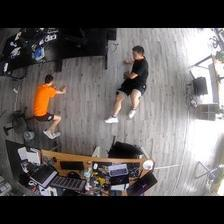fall: (103, 46, 149, 122), (33, 75, 67, 138)
